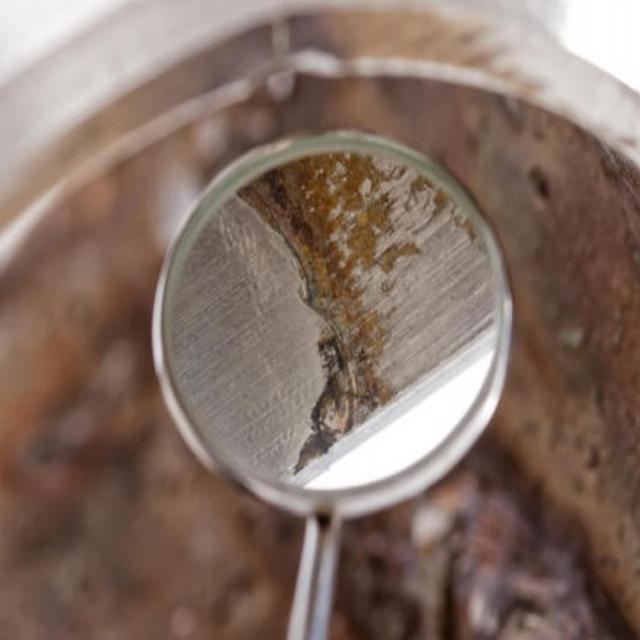Bad Weld: (235, 196, 354, 477)
